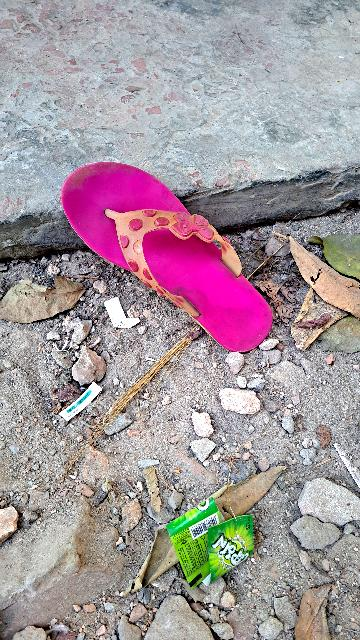sandal: (42, 133, 302, 376)
